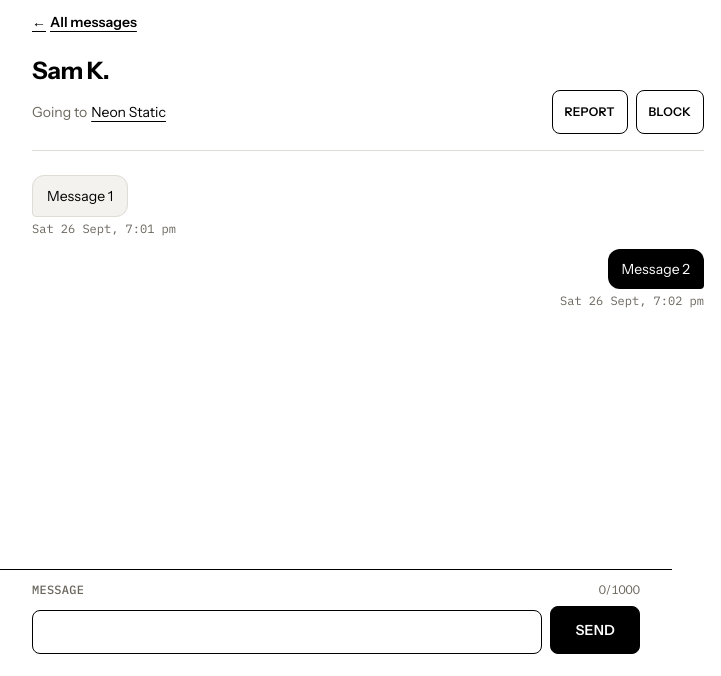
Thread — sending › an expired session: sign in again right here, as the same account, and the draft is kept
Type "Hi again" into the text box labelled "Message" at (287, 632), box [32,610,542,654]
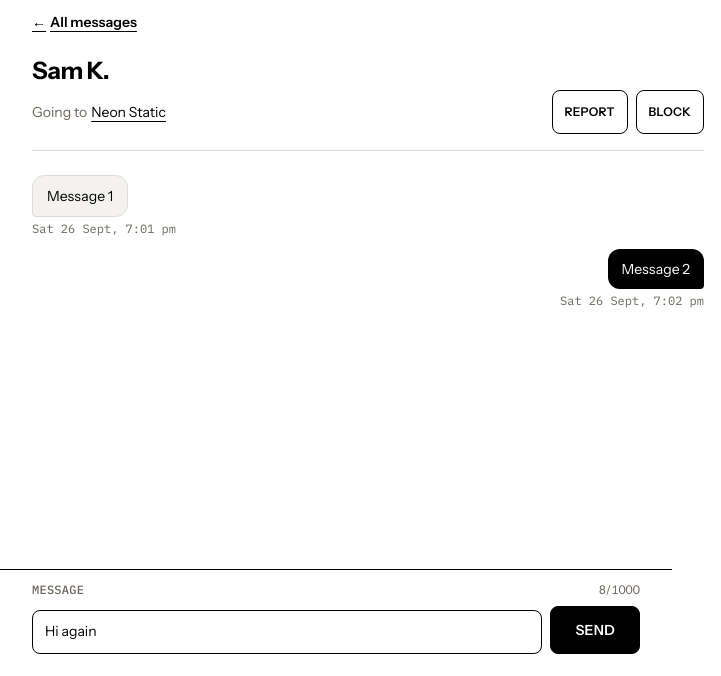
Click the button "Send" at (595, 630), box [550,606,640,654]
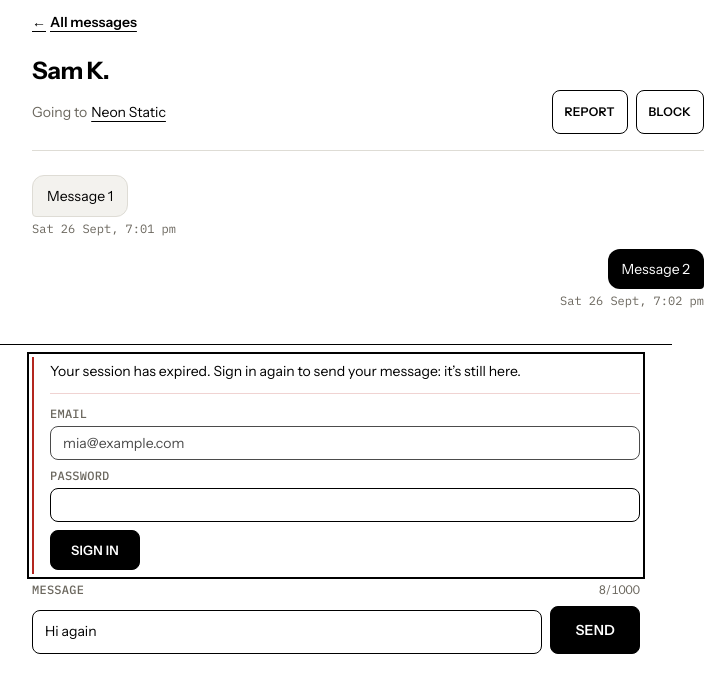
expect the field labelled "Email" holds "mia@example.com": met, box [50,426,640,460]
Type "hunter2" into the password field labelled "Password" at (345, 505), box [50,488,640,522]
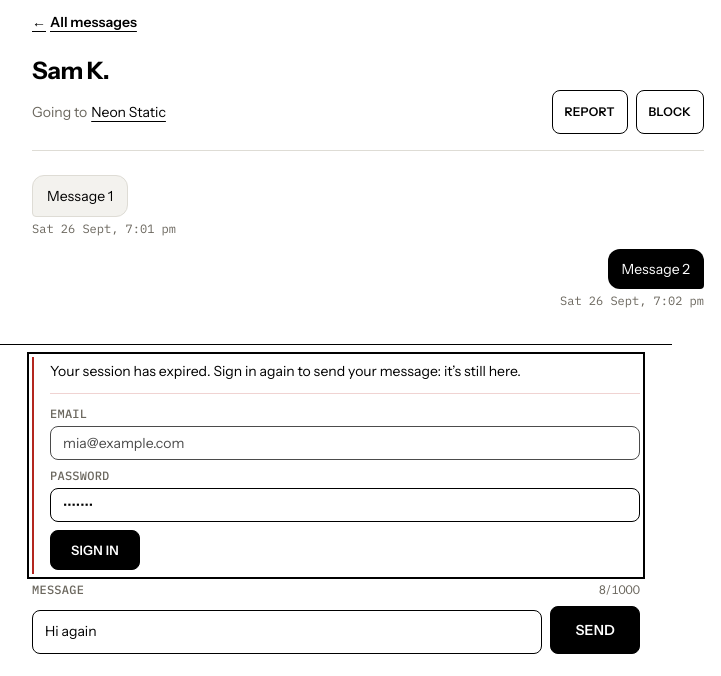
Click the button "Sign in" at (95, 550), box [50,530,140,570]
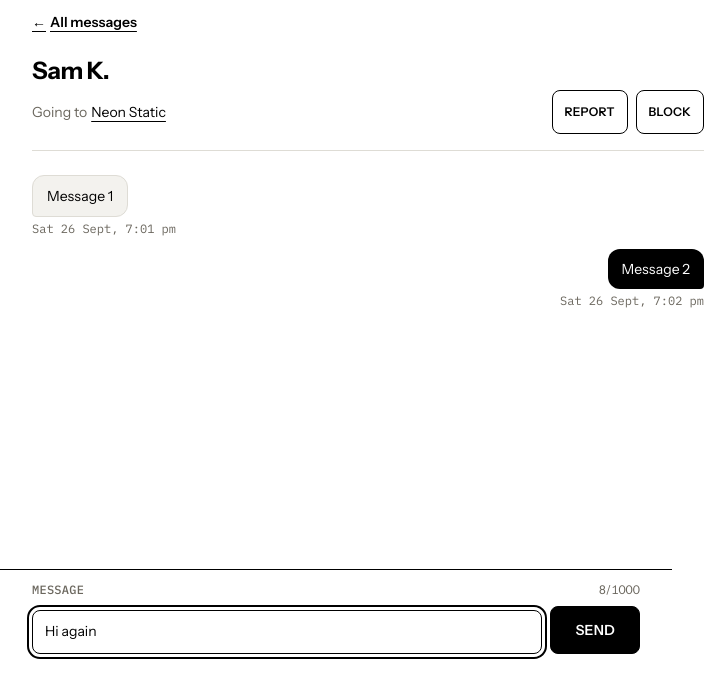
expect the text "Your session has expired" is gone: met
